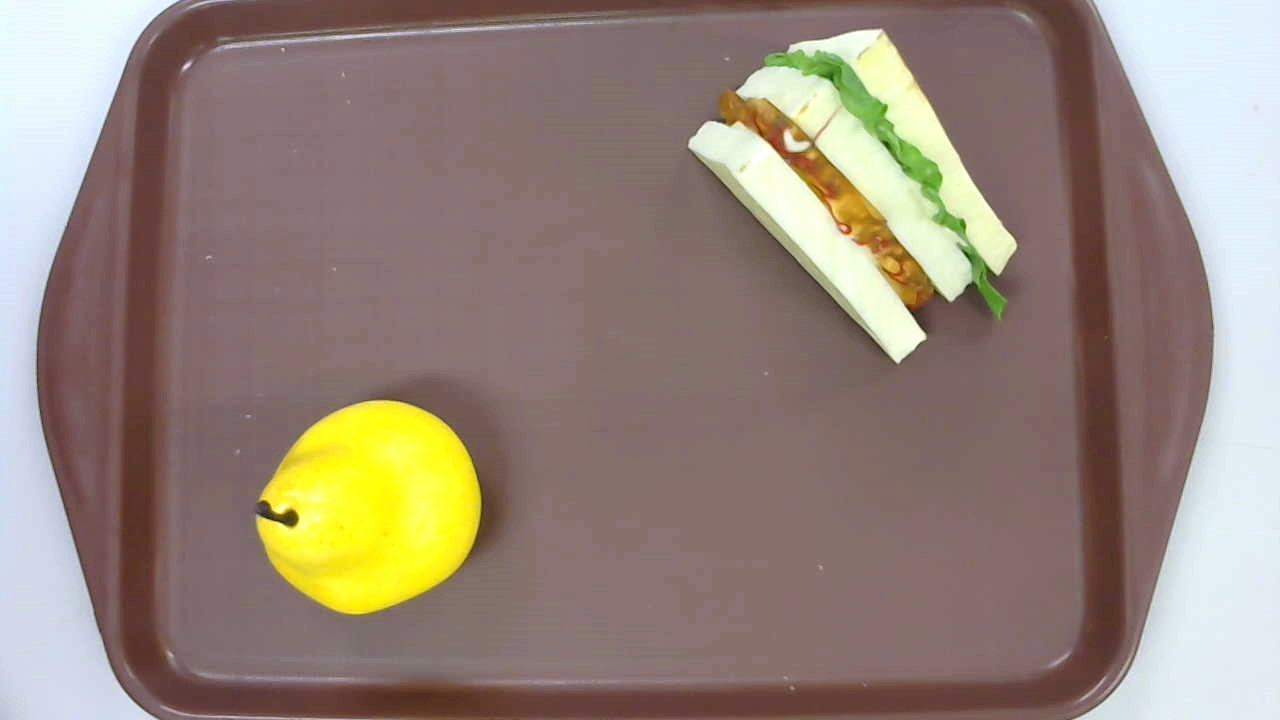sandwich: (686, 28, 1019, 366)
yellow pear: (254, 397, 481, 613)
